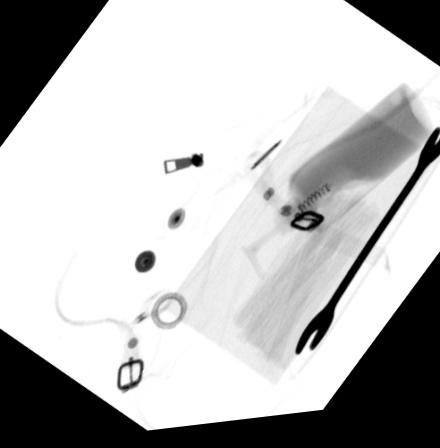Wrench: (291, 134, 440, 364)
